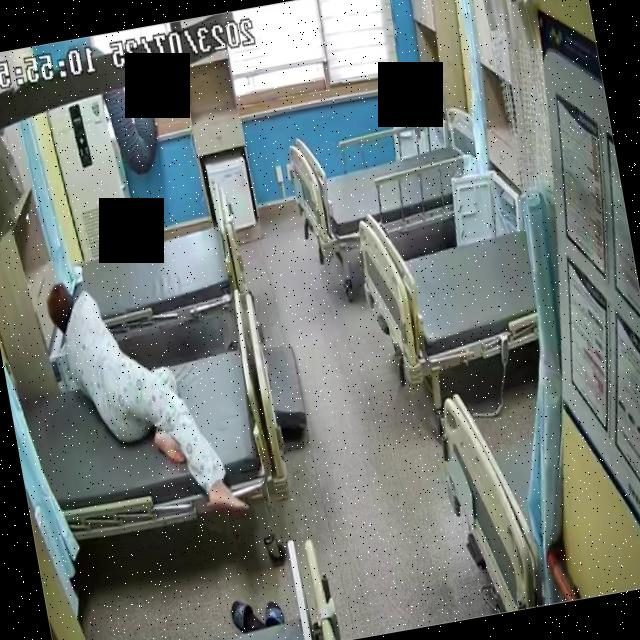bed: (15, 340, 276, 552), (348, 187, 548, 390), (287, 104, 490, 256), (51, 198, 250, 348)
danger: (44, 248, 252, 552)
patient: (45, 251, 252, 553)
